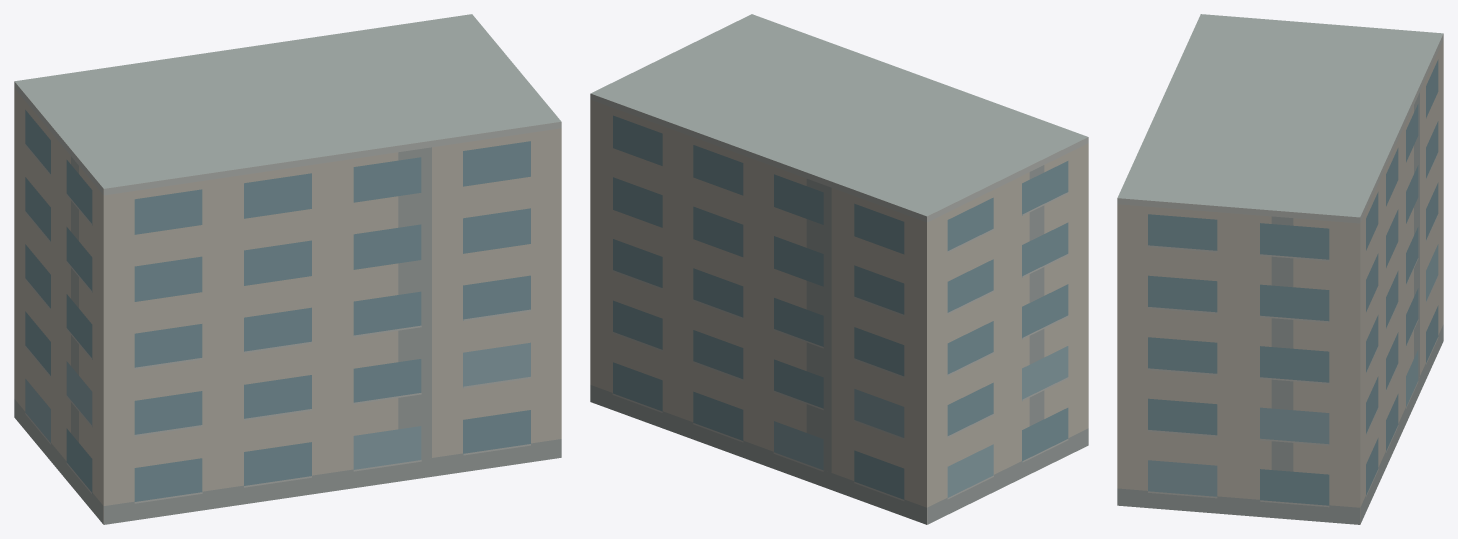
Rendered from survey-upis-32852233.glb.
3 views of the same model, side by side, from view 1: azimuth 30°, elevation 25°; view 2: azimuth 150°, elevation 25°; view 3: azimuth 270°, elevation 25° (orthographic). The views are drawn at different scales.
Parts seen in each view (by area): view 1: survey-upis-32852233.tmp; view 2: survey-upis-32852233.tmp; view 3: survey-upis-32852233.tmp.
Part boxes in pixels (x1=…): survey-upis-32852233.tmp: x1=14, y1=14, x2=561, y2=524; survey-upis-32852233.tmp: x1=590, y1=14, x2=1088, y2=524; survey-upis-32852233.tmp: x1=1117, y1=14, x2=1443, y2=524.
Bounding box in the file's own units: 17.6 × 12.4 × 11.94.
